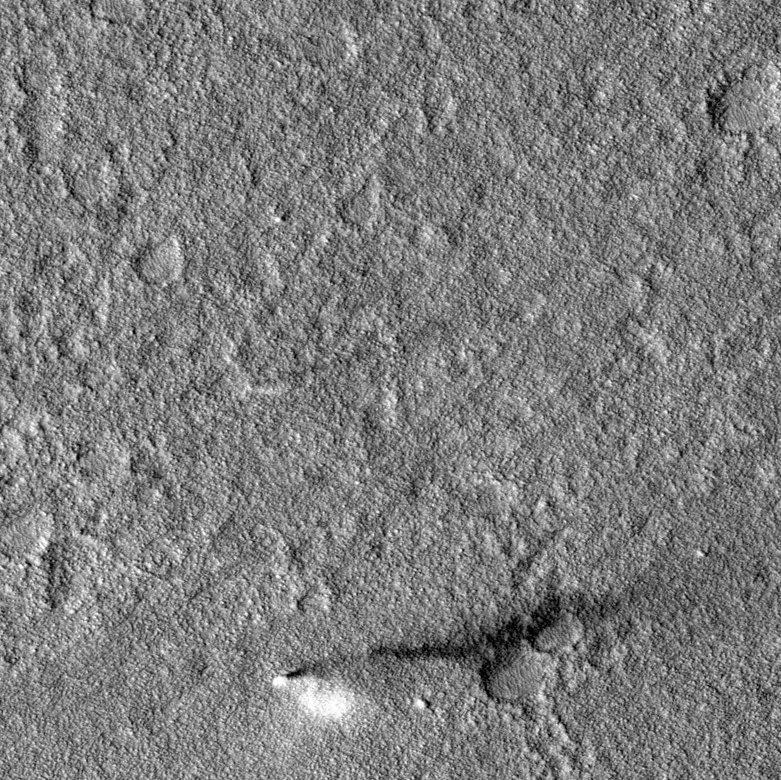dust_devil: (268, 592, 624, 723), (243, 319, 452, 398)
